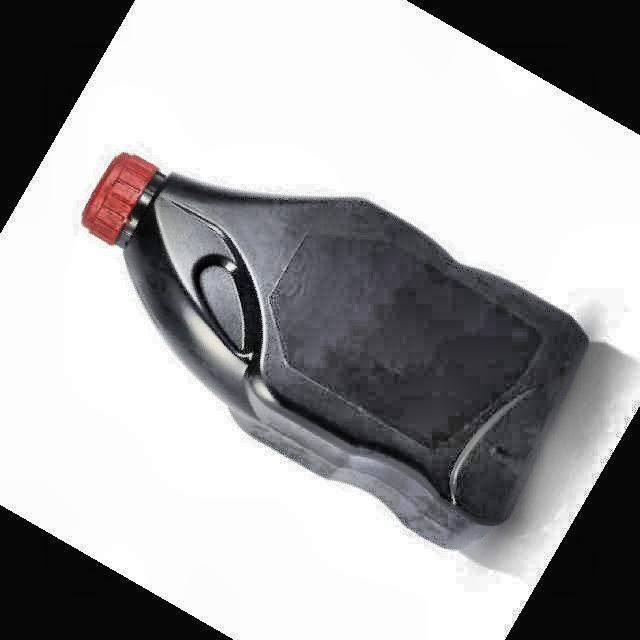plastic: (82, 152, 588, 547)
